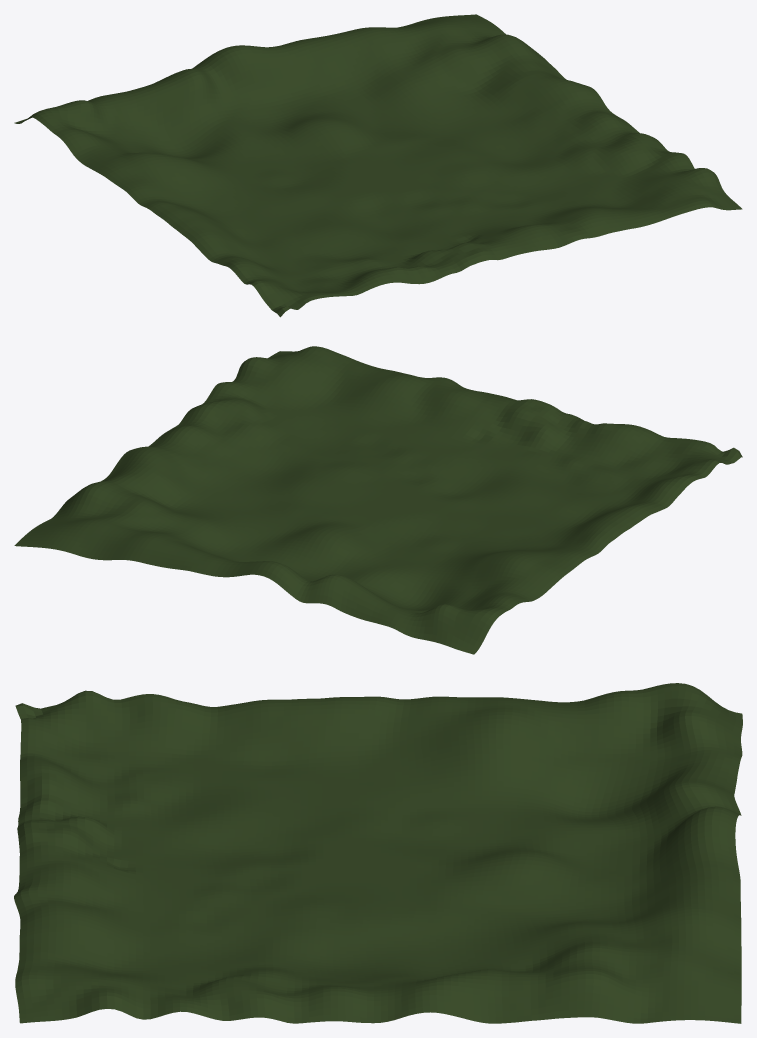
Rendered from Landscape.glb.
The picture shows the model from 3 angles, top to bottom: view 1: azimuth 30°, elevation 25°; view 2: azimuth 150°, elevation 25°; view 3: azimuth 270°, elevation 25°; orthographic projection. The views are drawn at different scales.
Visible parts, largest first — view 1: Landscape; view 2: Landscape; view 3: Landscape.
Part boxes in pixels (x1,y1,x2,y2): Landscape: [14, 14, 742, 317]; Landscape: [14, 346, 742, 654]; Landscape: [14, 683, 742, 1023].
Size of the model in its own units: 508 by 51.04 by 506.
